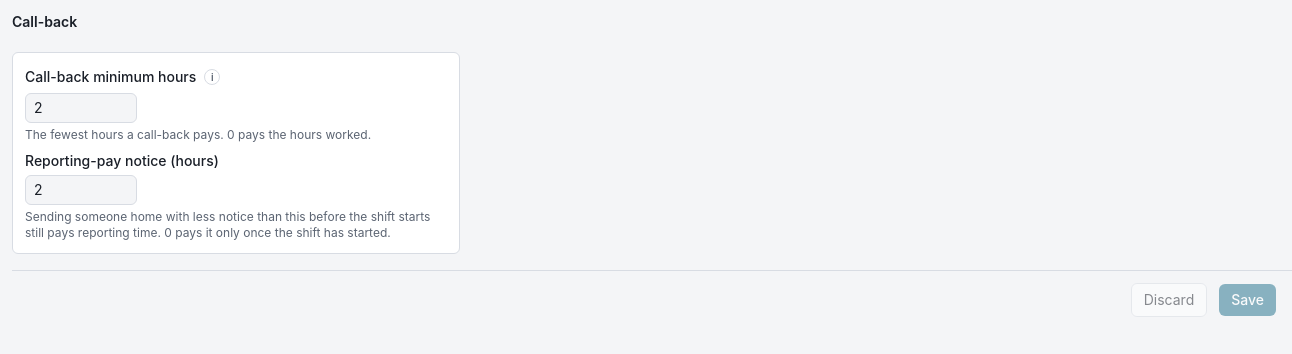
the call-back minimum in Settings › Pay › lets the manager discard a cleared minimum but not save it
Clear the number field labelled "Call-back minimum hours": (81, 108) [25,93,137,123]
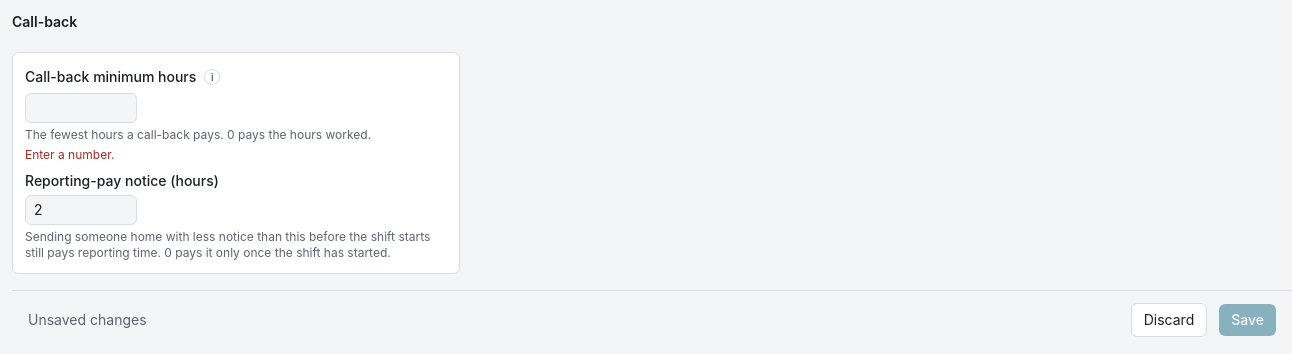
Expected: the button "Save" is disabled, [1219,304,1276,336]
Result: the button "Discard" is enabled at [1131,303,1207,337]
